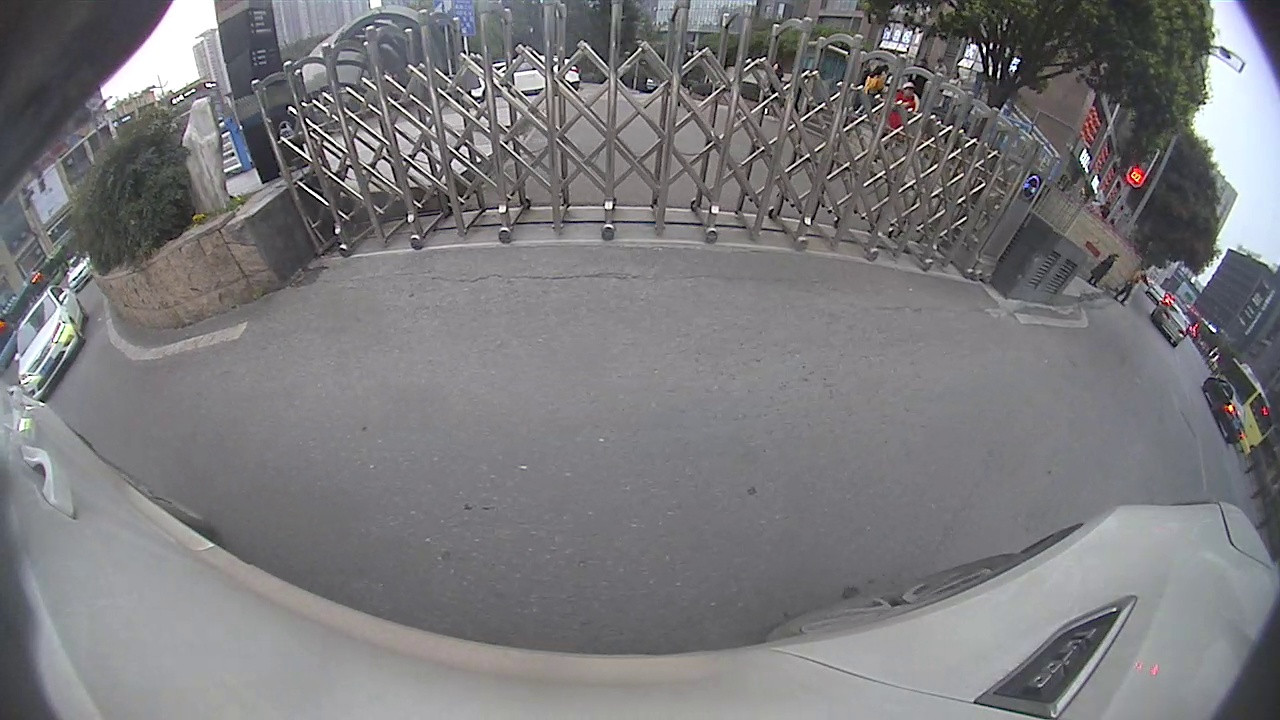car: (13, 284, 88, 400), (1199, 375, 1248, 445), (1152, 301, 1190, 349)
